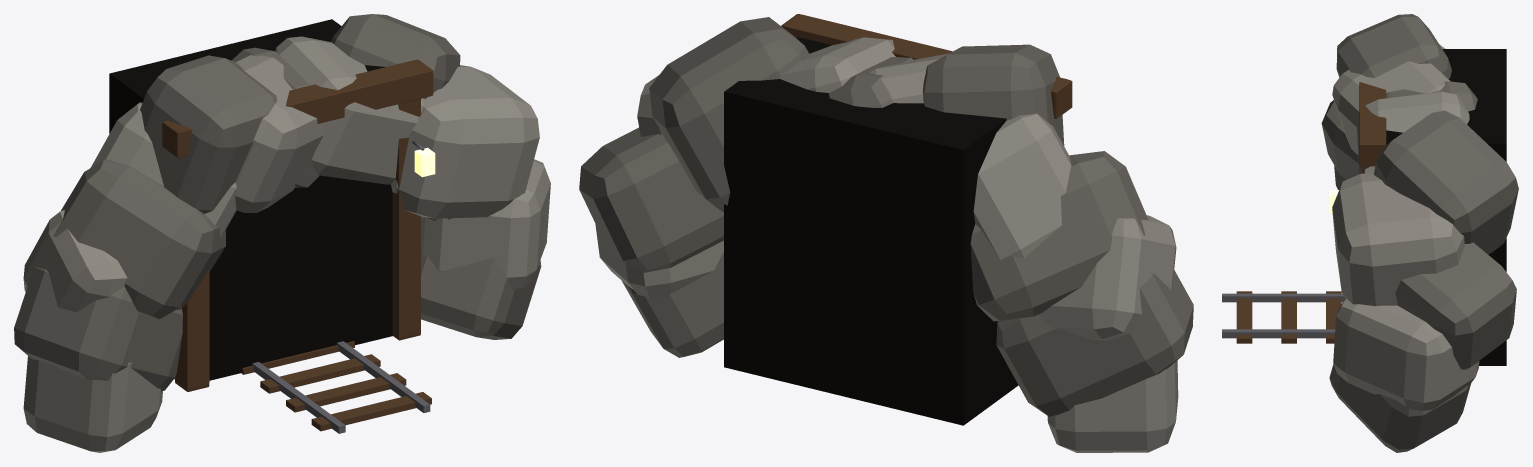
Rendered from stolleneingang.glb.
The picture shows the model from 3 angles, left to right: view 1: azimuth 30°, elevation 25°; view 2: azimuth 150°, elevation 25°; view 3: azimuth 270°, elevation 25°; orthographic projection. The views are drawn at different scales.
Parts seen in each view (by area): view 1: Cube; view 2: Cube; view 3: Cube.
Part boxes in pixels (x1,y1,x2,y2): Cube: [14, 14, 550, 452]; Cube: [579, 14, 1193, 452]; Cube: [1222, 14, 1518, 452].
Bounding box in the file's own units: 4.82 × 2.95 × 2.66.
